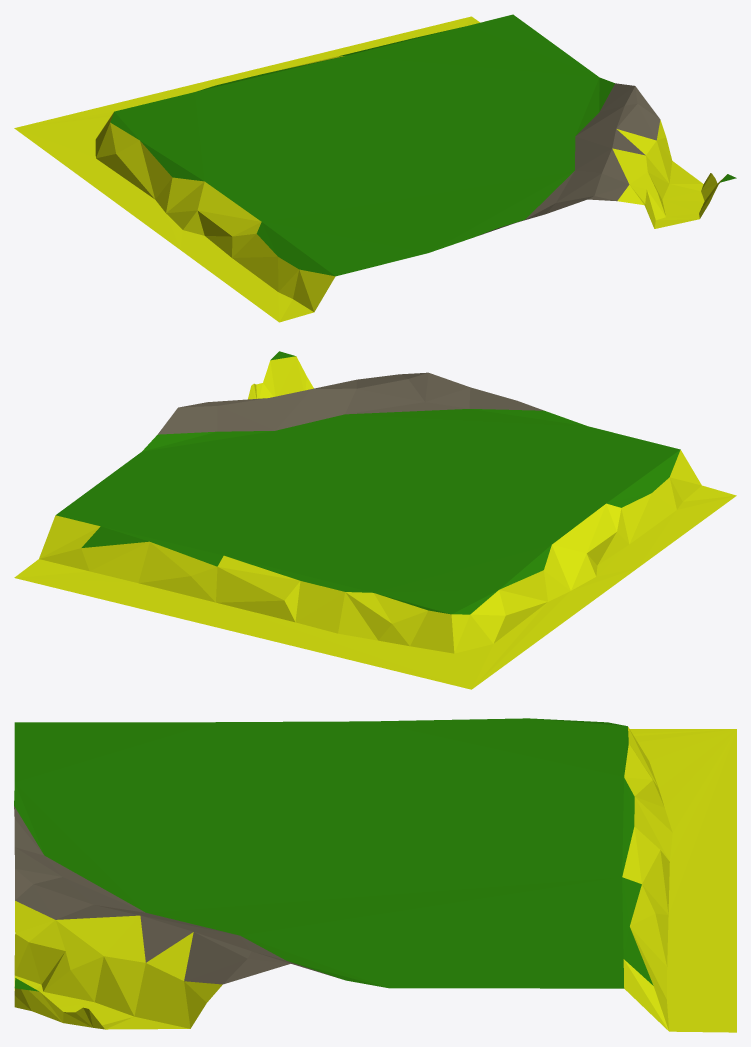
3 views of the same model, one above another, from view 1: azimuth 30°, elevation 25°; view 2: azimuth 150°, elevation 25°; view 3: azimuth 270°, elevation 25° (orthographic). The views are drawn at different scales.
Visible parts, largest first — view 1: TerrainVeryHigh.008; view 2: TerrainVeryHigh.008; view 3: TerrainVeryHigh.008.
Boxes of the visible parts, x1=… form: TerrainVeryHigh.008: x1=14, y1=14, x2=736, y2=322; TerrainVeryHigh.008: x1=14, y1=351, x2=736, y2=689; TerrainVeryHigh.008: x1=14, y1=718, x2=736, y2=1032.
Size of the model in its own units: 1249 by 1253 by 132.
